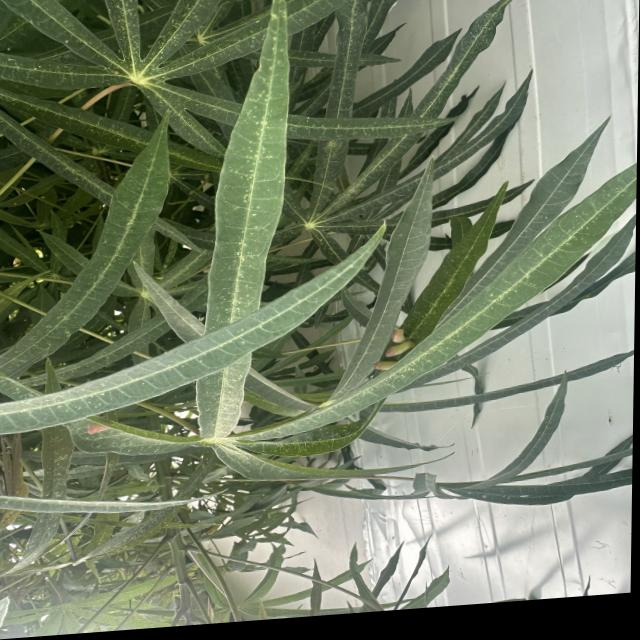Mosca: (378, 323, 424, 381), (81, 419, 109, 438), (6, 250, 23, 271)
